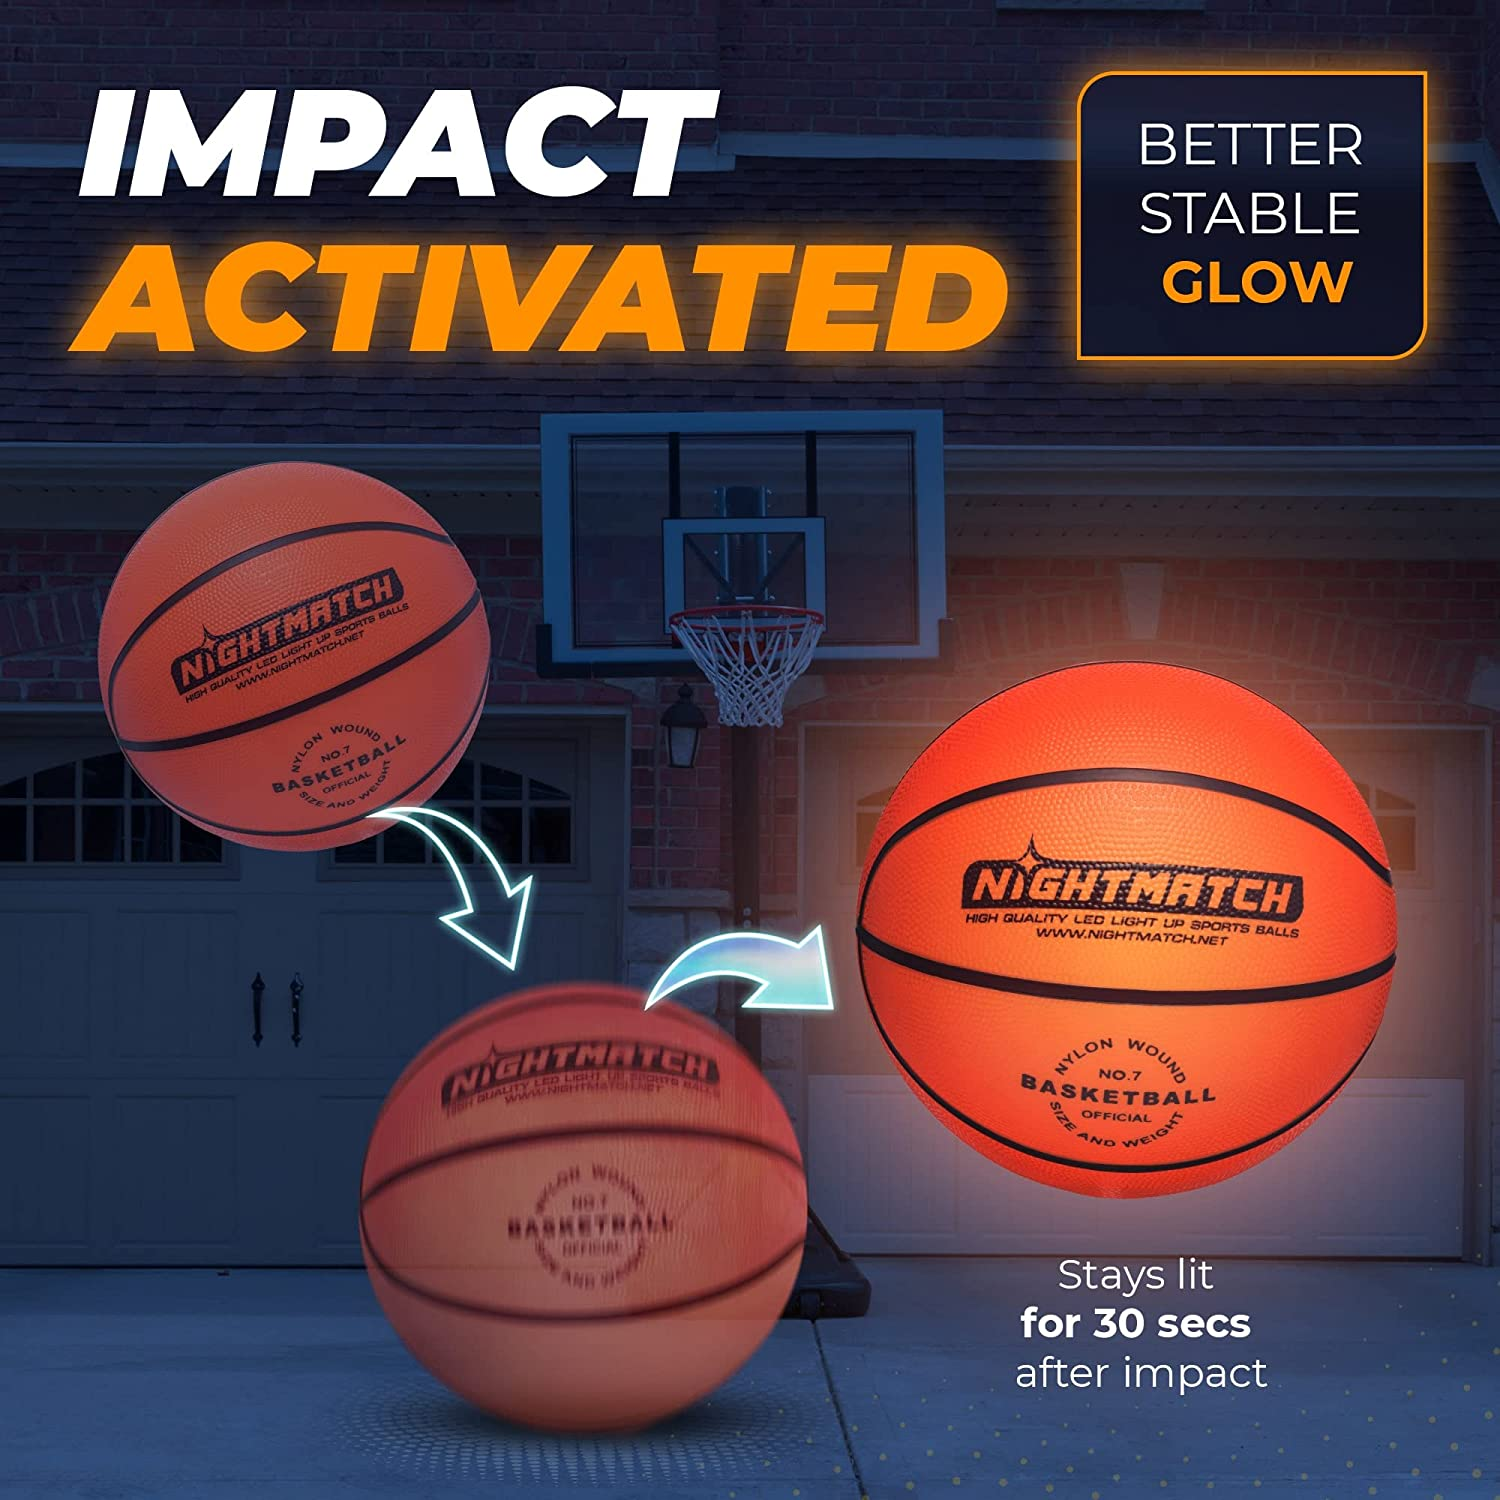b_ball: (848, 635, 1438, 1227), (315, 970, 864, 1470), (96, 456, 512, 864)
basket: (639, 580, 819, 760)
